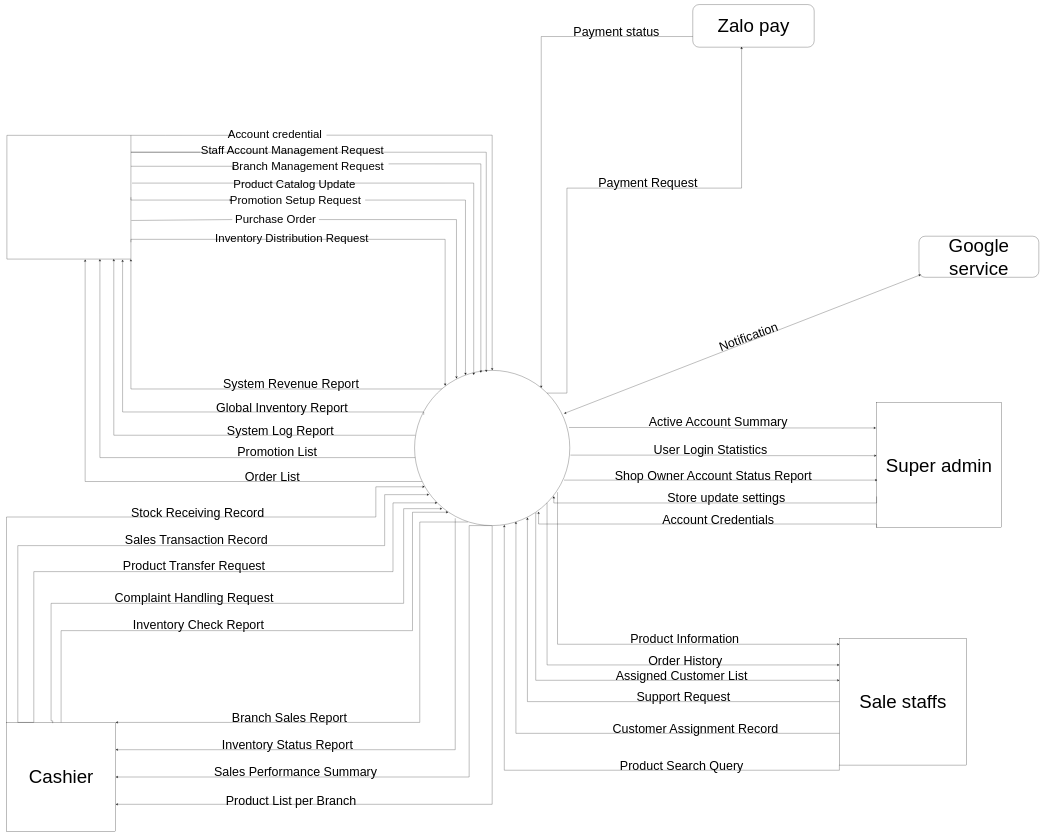
The diagram is 1043 pixels wide and 836 high, and some of its shapes have lost their labels. The shapes that lost their labels are listed below. From the top down, each one's centre as x and y in pixels, then its label:
At (x=69, y=197): "Shop owner".
At (x=492, y=448): "TSMS".
